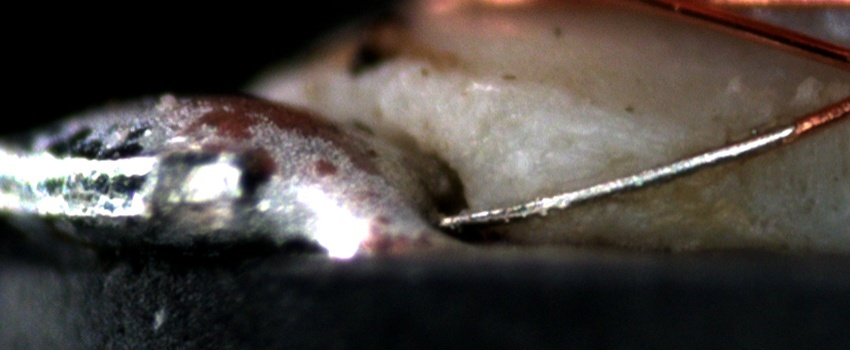TS: (442, 124, 796, 227)
